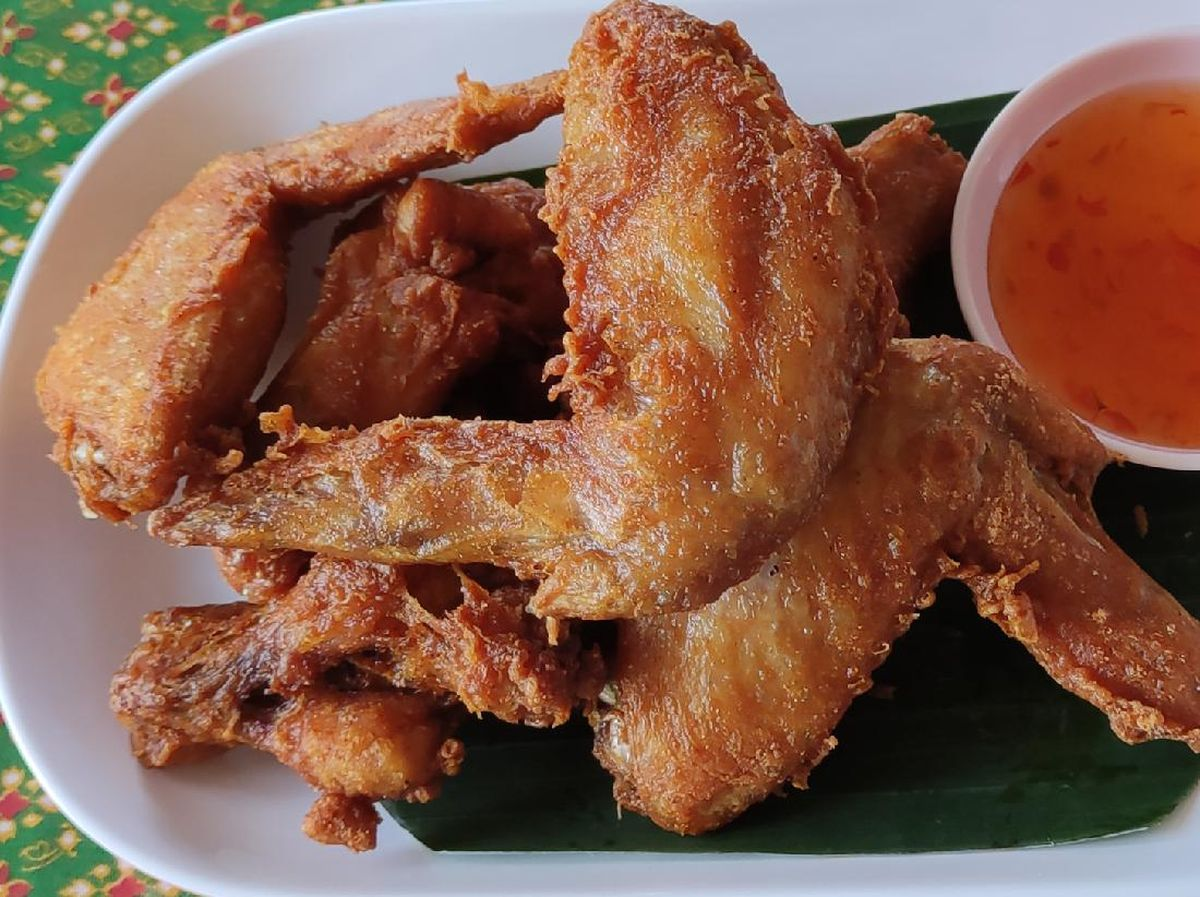Ayam: (330, 61, 887, 638), (610, 382, 1100, 799), (20, 104, 403, 543)
